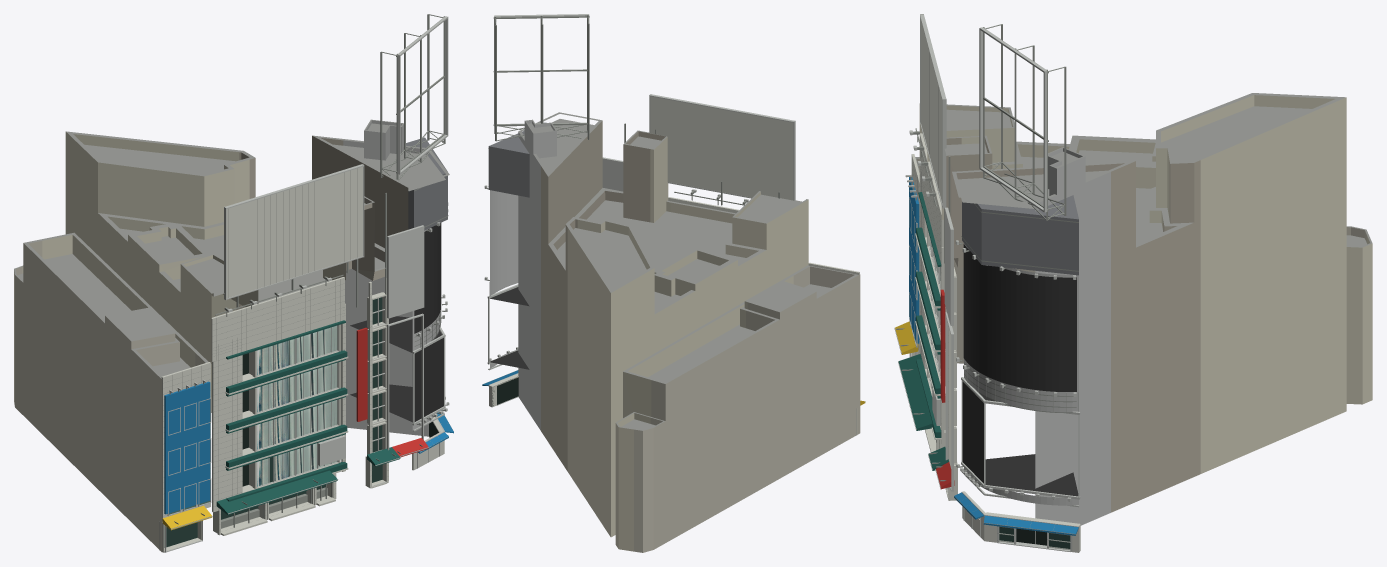
File: west-block.glb
The picture shows the model from 3 angles, left to right: view 1: azimuth 30°, elevation 25°; view 2: azimuth 150°, elevation 25°; view 3: azimuth 270°, elevation 25°; orthographic projection. The views are drawn at different scales.
Parts seen in each view (by area): view 1: west_tile_trim, west_wall_pharmacy, west_wall_fruit, west_roof, west_metal_edge, west_curtains, west_awning, west_book_awning, west_wall_corner_body, west_screen_back, west_wall_middle, west_frame (+6 smaller); view 2: west_wall_pharmacy, west_wall_fruit, west_roof, west_wall_middle, west_tile_trim, west_wall_corner_body, west_metal_edge, west_frame, west_housing, west_screen_back; view 3: west_wall_fruit, west_wall_middle, west_wall_corner_body, west_screen_back, west_roof, west_metal_edge, west_tile_trim, west_housing, west_frame, west_awning, west_book_awning, west_wall_corner (+2 smaller).
Part boxes in pixels (left/top/right/bottom): west_tile_trim: left=159, top=166, right=452, bottom=552; west_wall_pharmacy: left=14, top=241, right=205, bottom=552; west_wall_fruit: left=22, top=132, right=345, bottom=412; west_roof: left=14, top=119, right=449, bottom=378; west_metal_edge: left=165, top=16, right=449, bottom=552; west_curtains: left=257, top=325, right=337, bottom=486; west_awning: left=216, top=320, right=400, bottom=514; west_book_awning: left=164, top=381, right=453, bottom=514; west_wall_corner_body: left=341, top=120, right=440, bottom=436; west_screen_back: left=350, top=223, right=443, bottom=421; west_wall_middle: left=236, top=135, right=408, bottom=424; west_frame: left=169, top=14, right=448, bottom=528; west_wall_pharmacy: left=634, top=266, right=860, bottom=552; west_wall_fruit: left=567, top=137, right=808, bottom=551; west_roof: left=518, top=112, right=858, bottom=430; west_wall_middle: left=541, top=121, right=665, bottom=471; west_tile_trim: left=482, top=96, right=859, bottom=435; west_wall_corner_body: left=490, top=120, right=556, bottom=430; west_metal_edge: left=484, top=14, right=865, bottom=405; west_frame: left=486, top=15, right=779, bottom=379; west_housing: left=488, top=122, right=546, bottom=197; west_screen_back: left=489, top=287, right=529, bottom=369; west_wall_fruit: left=919, top=95, right=1372, bottom=473; west_wall_middle: left=946, top=138, right=1200, bottom=512; west_wall_corner_body: left=964, top=148, right=1110, bottom=544; west_screen_back: left=962, top=244, right=1078, bottom=496; west_roof: left=915, top=93, right=1372, bottom=247; west_metal_edge: left=894, top=14, right=1080, bottom=551; west_tile_trim: left=911, top=20, right=1080, bottom=552; west_housing: left=962, top=195, right=1078, bottom=275; west_frame: left=896, top=24, right=1078, bottom=549; west_awning: left=898, top=192, right=948, bottom=470; west_book_awning: left=909, top=177, right=1078, bottom=535; west_wall_corner: left=936, top=289, right=954, bottom=489.
Size of the model in its own units: 34.72 by 40.01 by 35.55.
Materials: 20 (1 with a texture image).
